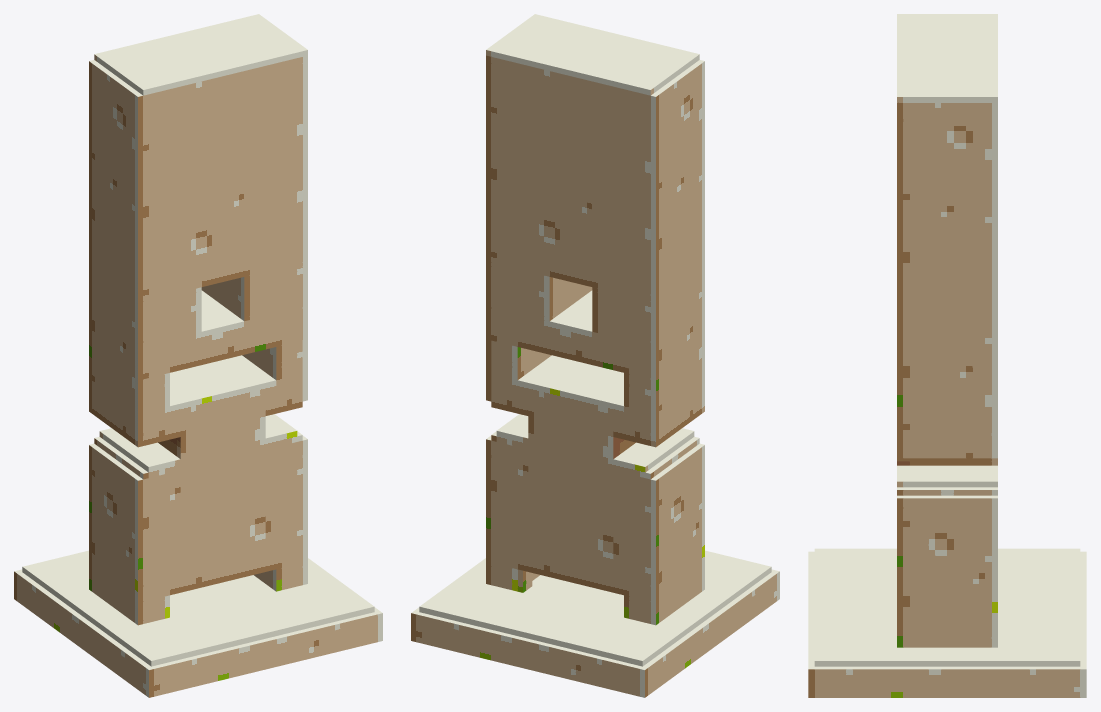
File: yu_statue_bao.fezao.glb
The picture shows the model from 3 angles, left to right: view 1: azimuth 30°, elevation 25°; view 2: azimuth 150°, elevation 25°; view 3: azimuth 270°, elevation 25°; orthographic projection. The views are drawn at different scales.
Visible parts, largest first — view 1: YU_STATUE_BAO; view 2: YU_STATUE_BAO; view 3: YU_STATUE_BAO.
Part boxes in pixels (x1=…): YU_STATUE_BAO: x1=14, y1=14, x2=382, y2=697; YU_STATUE_BAO: x1=411, y1=14, x2=779, y2=697; YU_STATUE_BAO: x1=808, y1=14, x2=1086, y2=697.
Size of the model in its own units: 2.75 by 6.38 by 2.75.
1 material, 1 textured.
